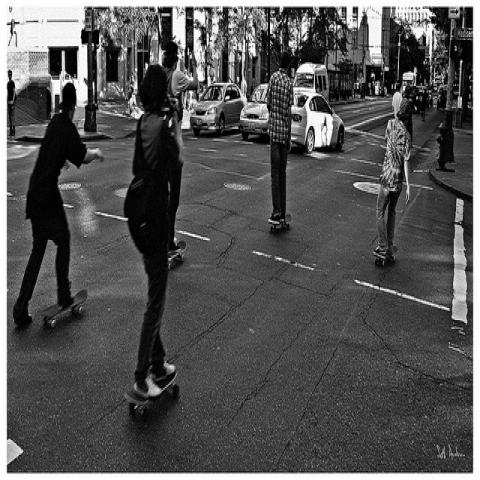car: (188, 76, 248, 136), (291, 90, 344, 155), (239, 82, 270, 143), (292, 63, 329, 98), (410, 83, 421, 114), (437, 86, 447, 110)
